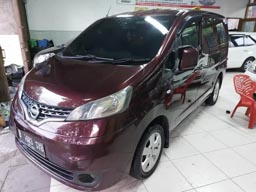plat: (14, 130, 45, 160)
